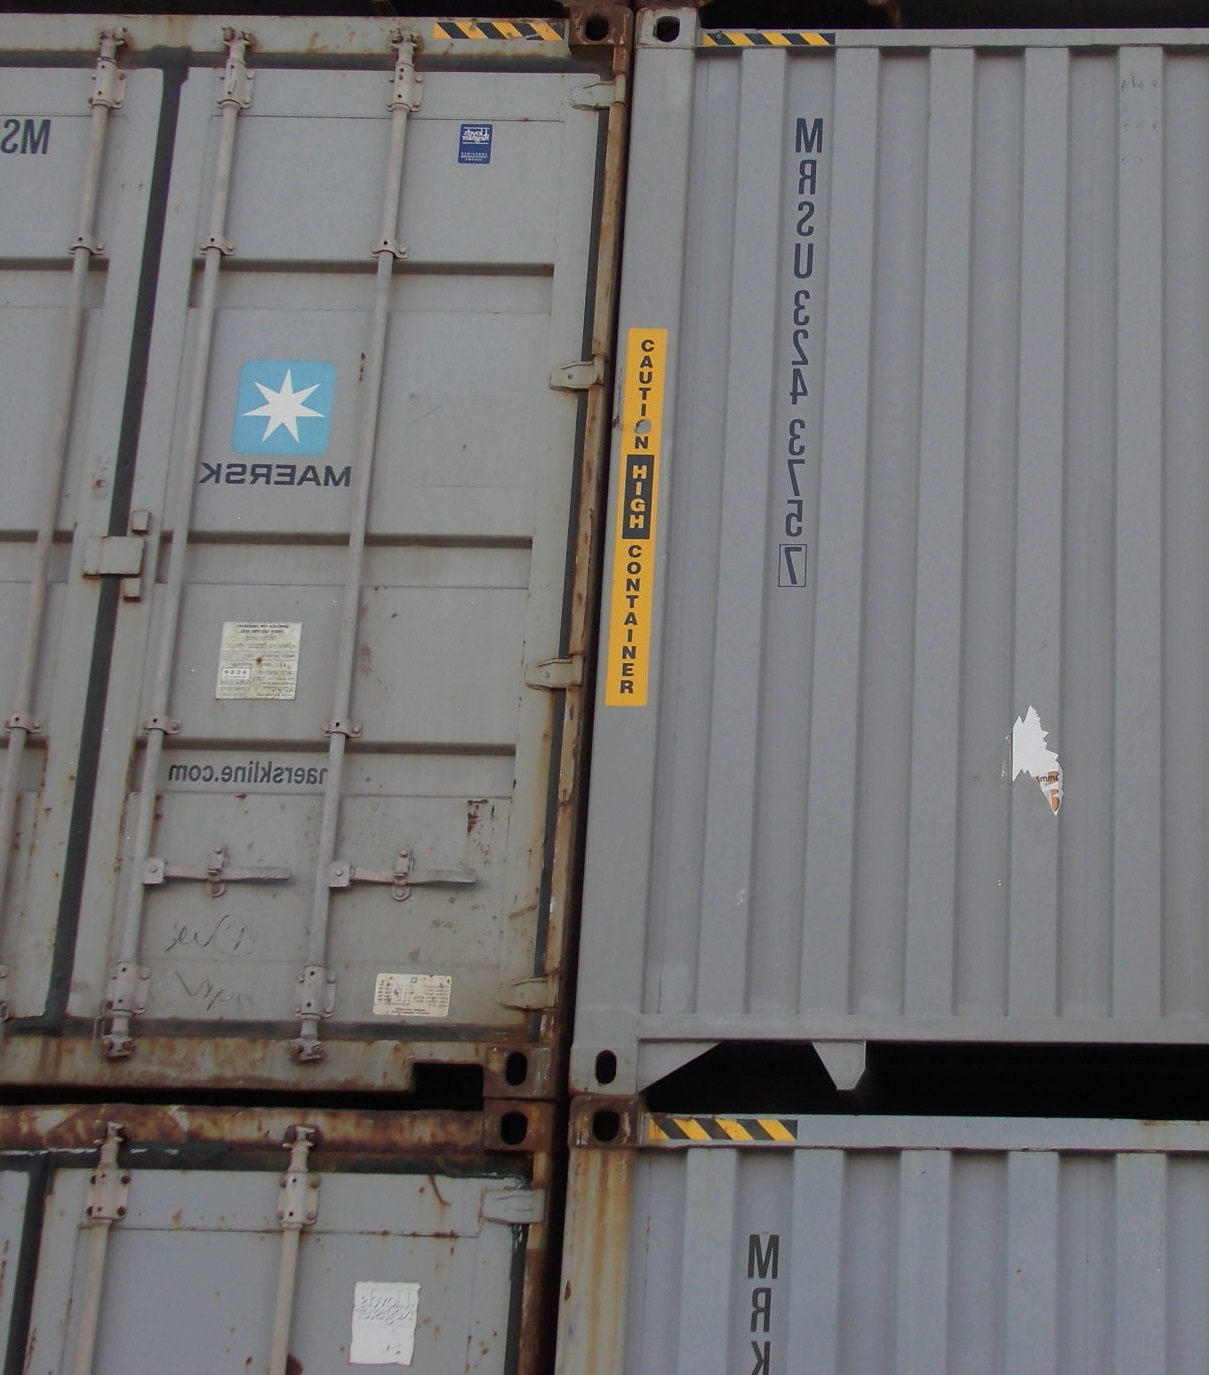container_door: (7, 7, 626, 1092)
container_no_door: (567, 18, 1201, 1098)
